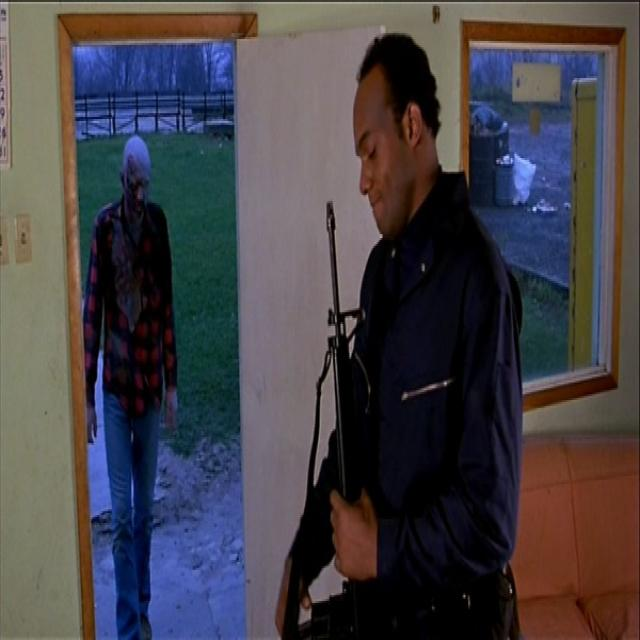rifle: (322, 187, 365, 513)
